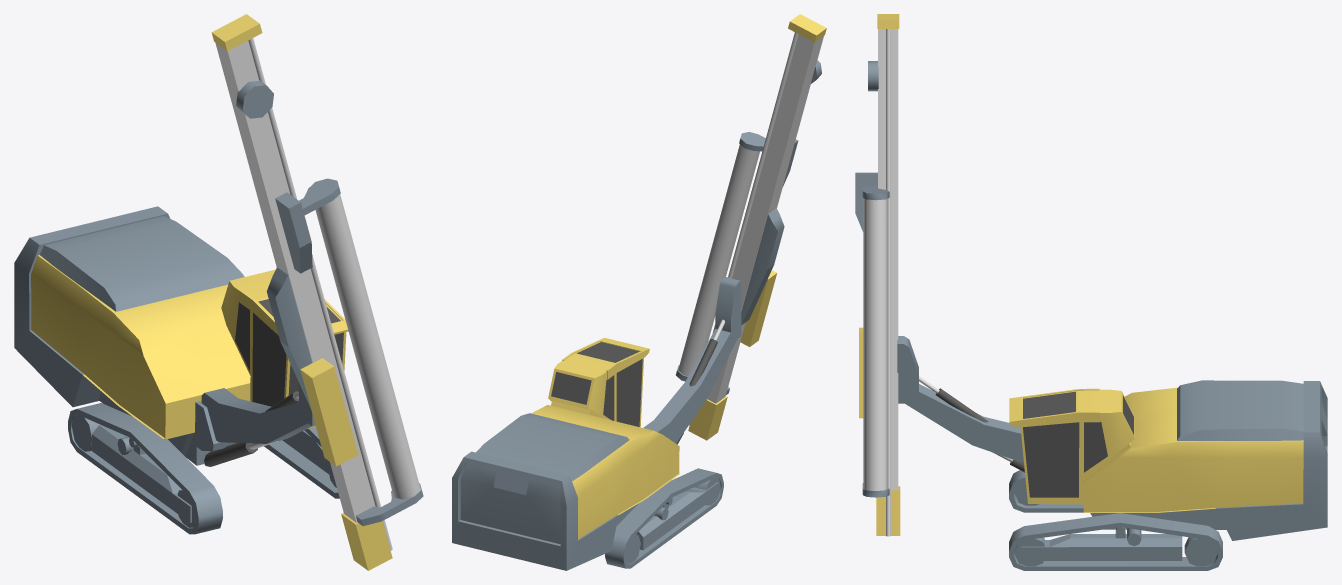
3 renders of one model, left to right at view 1: azimuth 30°, elevation 25°; view 2: azimuth 150°, elevation 25°; view 3: azimuth 270°, elevation 25°, orthographic. The views are drawn at different scales.
Parts seen in each view (by area): view 1: D65; view 2: D65; view 3: D65.
Boxes of the visible parts, bbox=[...] form: D65: bbox=[14, 14, 423, 570]; D65: bbox=[452, 14, 826, 570]; D65: bbox=[855, 14, 1327, 570].
Bounding box in the file's own units: 3.48 × 8.56 × 7.71.
